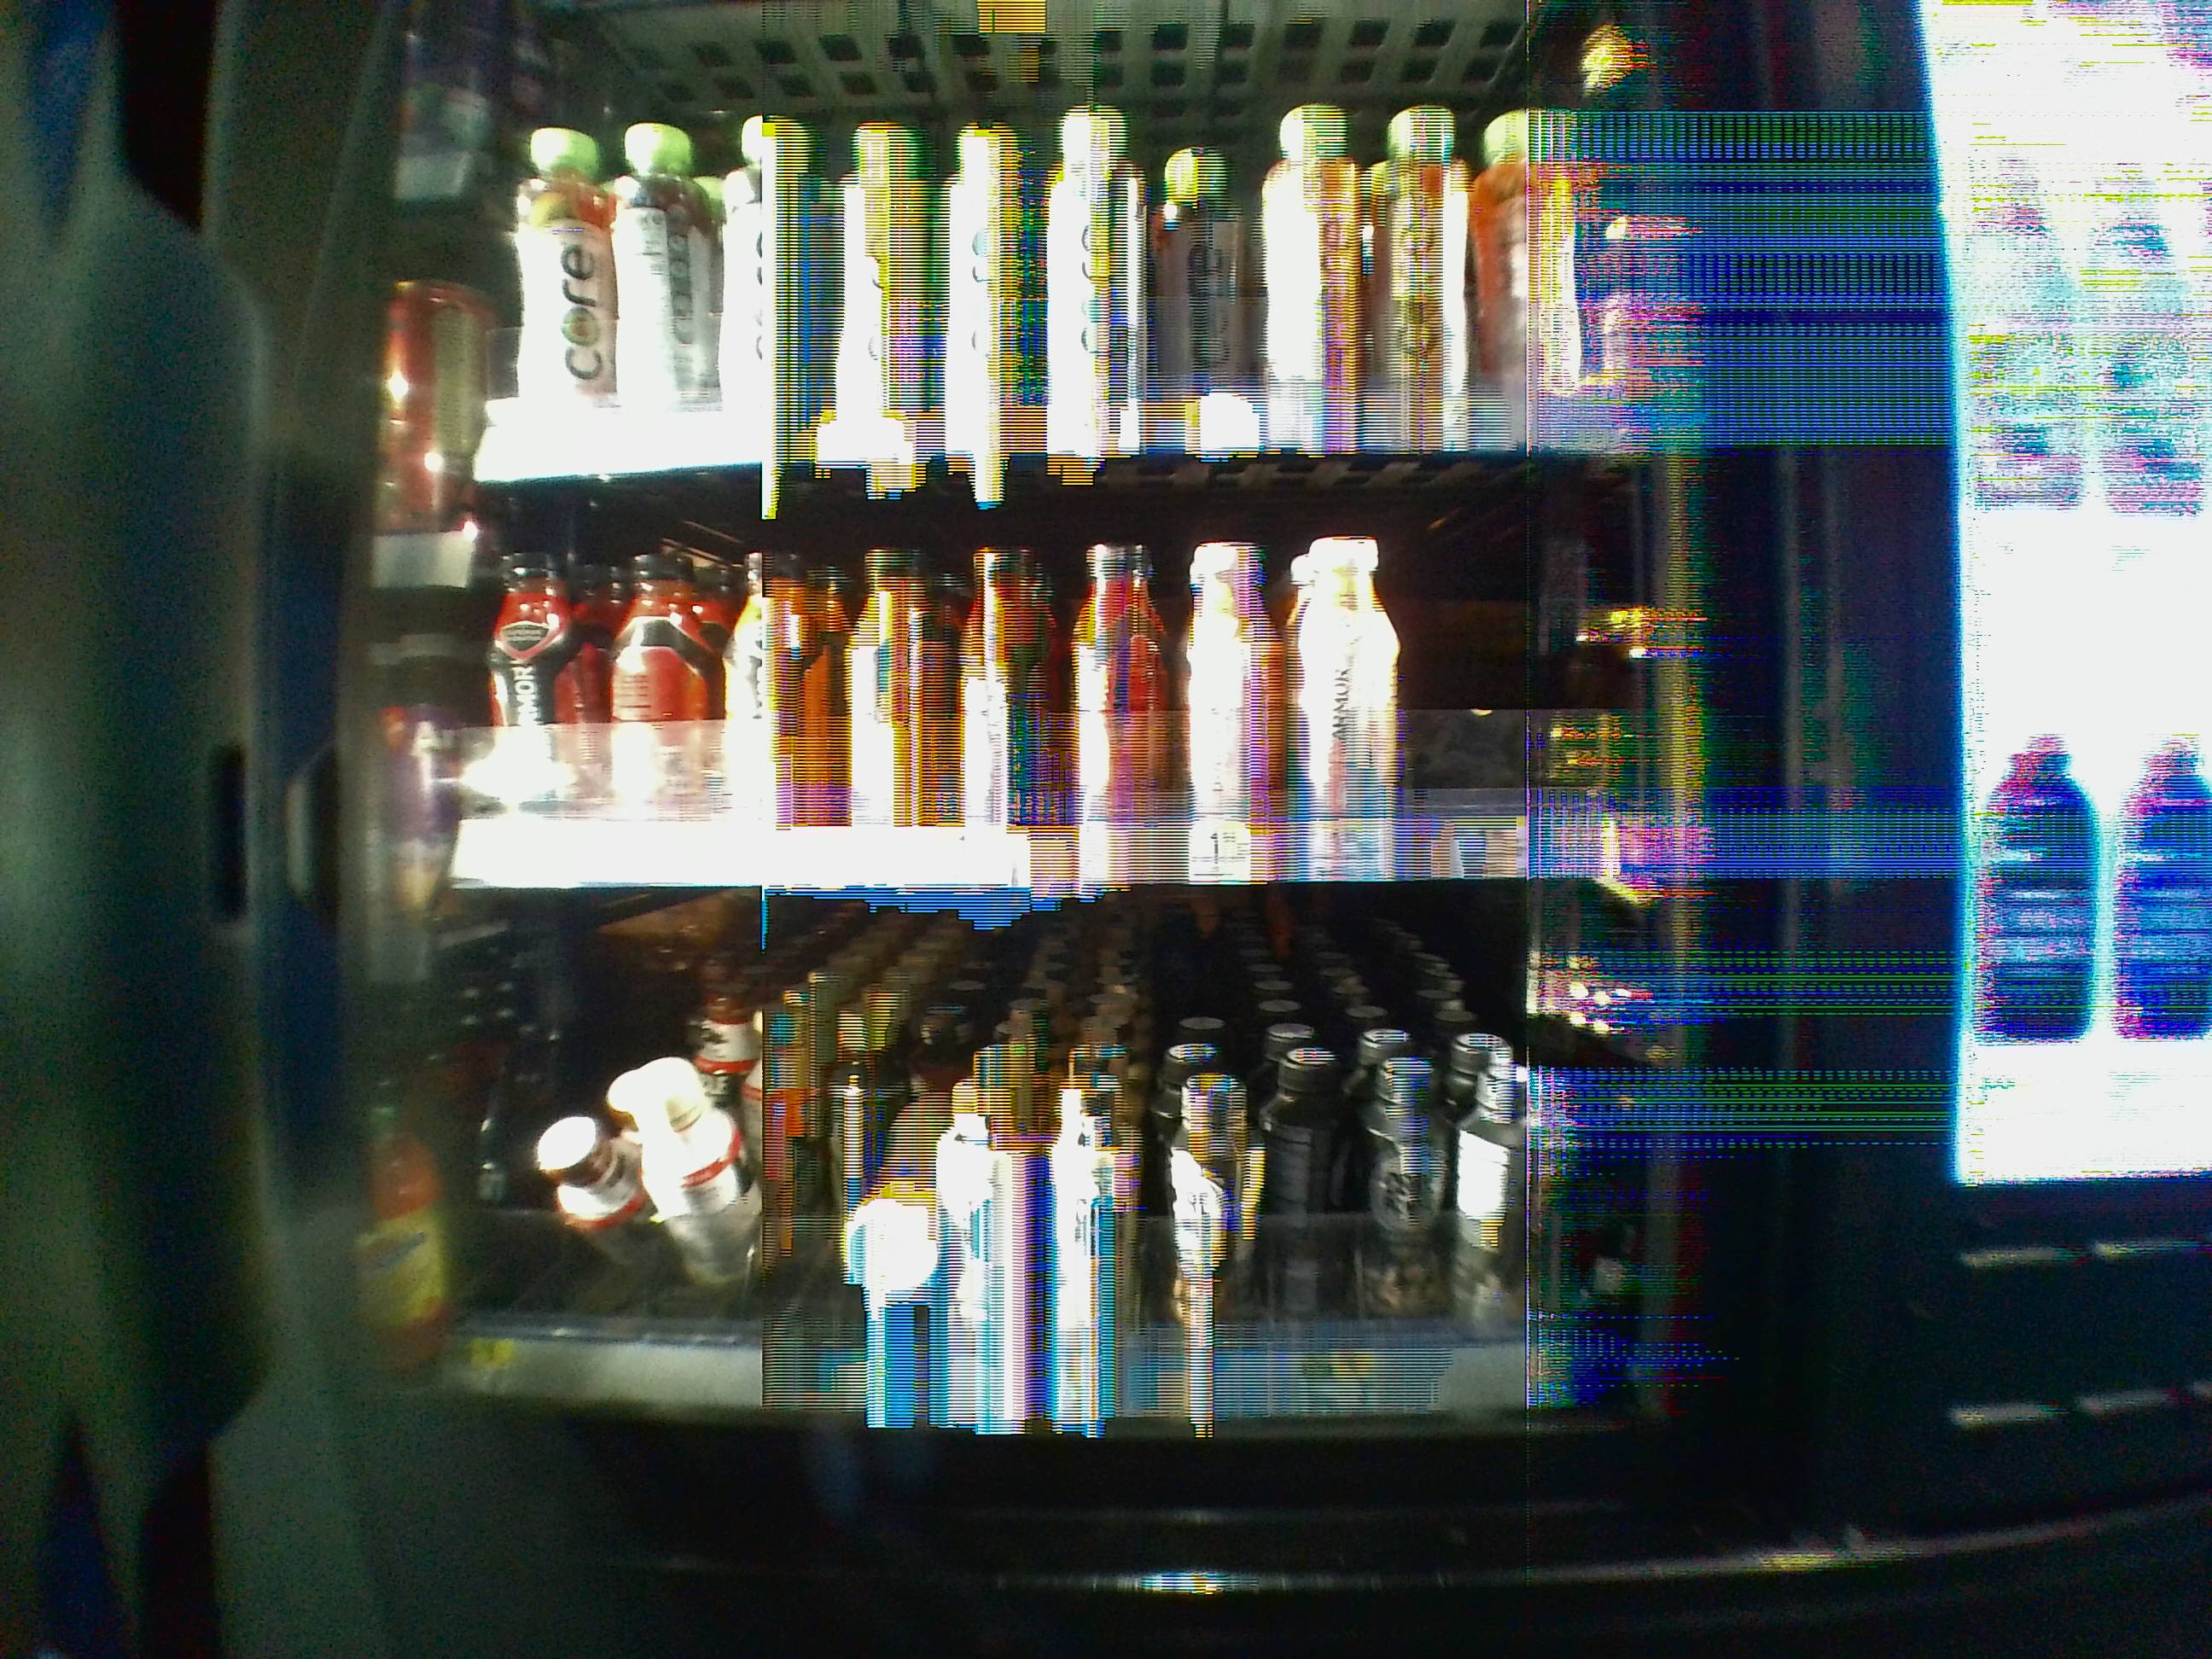shelf: (340, 889, 1702, 1413), (347, 472, 1705, 890)
